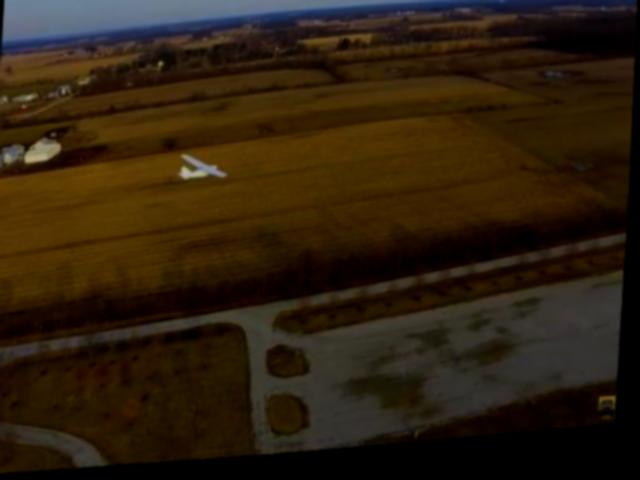uav: (170, 143, 243, 199)
